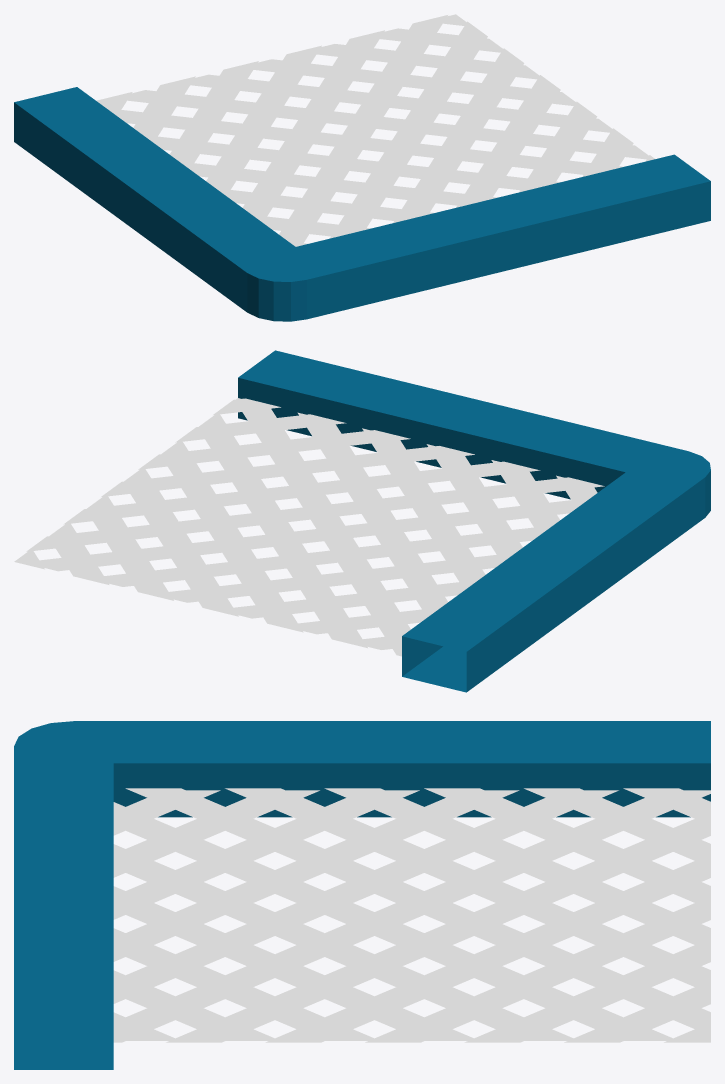
The model's file is G02_016_Floor_Mesh_WA.fbx.
The picture shows the model from 3 angles, top to bottom: view 1: azimuth 30°, elevation 25°; view 2: azimuth 150°, elevation 25°; view 3: azimuth 270°, elevation 25°; orthographic projection. The views are drawn at different scales.
Visible parts, largest first — view 1: 平面.053, 005_Mesh_AW_B; view 2: 平面.053, 005_Mesh_AW_B; view 3: 平面.053, 005_Mesh_AW_B.
Boxes of the visible parts, x1=… form: 平面.053: x1=97, y1=14, x2=655, y2=246; 005_Mesh_AW_B: x1=14, y1=87, x2=710, y2=321; 平面.053: x1=14, y1=398, x2=604, y2=656; 005_Mesh_AW_B: x1=238, y1=350, x2=710, y2=692; 平面.053: x1=113, y1=788, x2=710, y2=1042; 005_Mesh_AW_B: x1=14, y1=721, x2=710, y2=1069.
Size of the model in its own units: 350 by 30 by 350.
